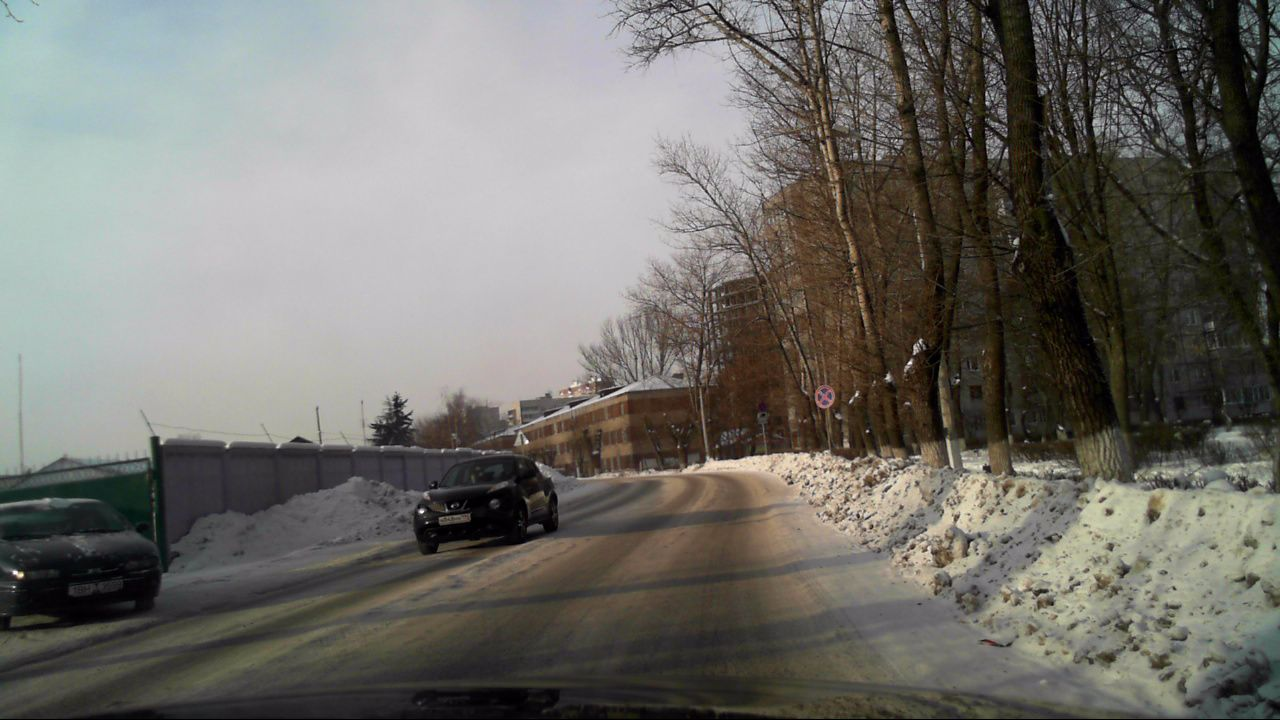No Parking: (814, 383, 835, 409)
